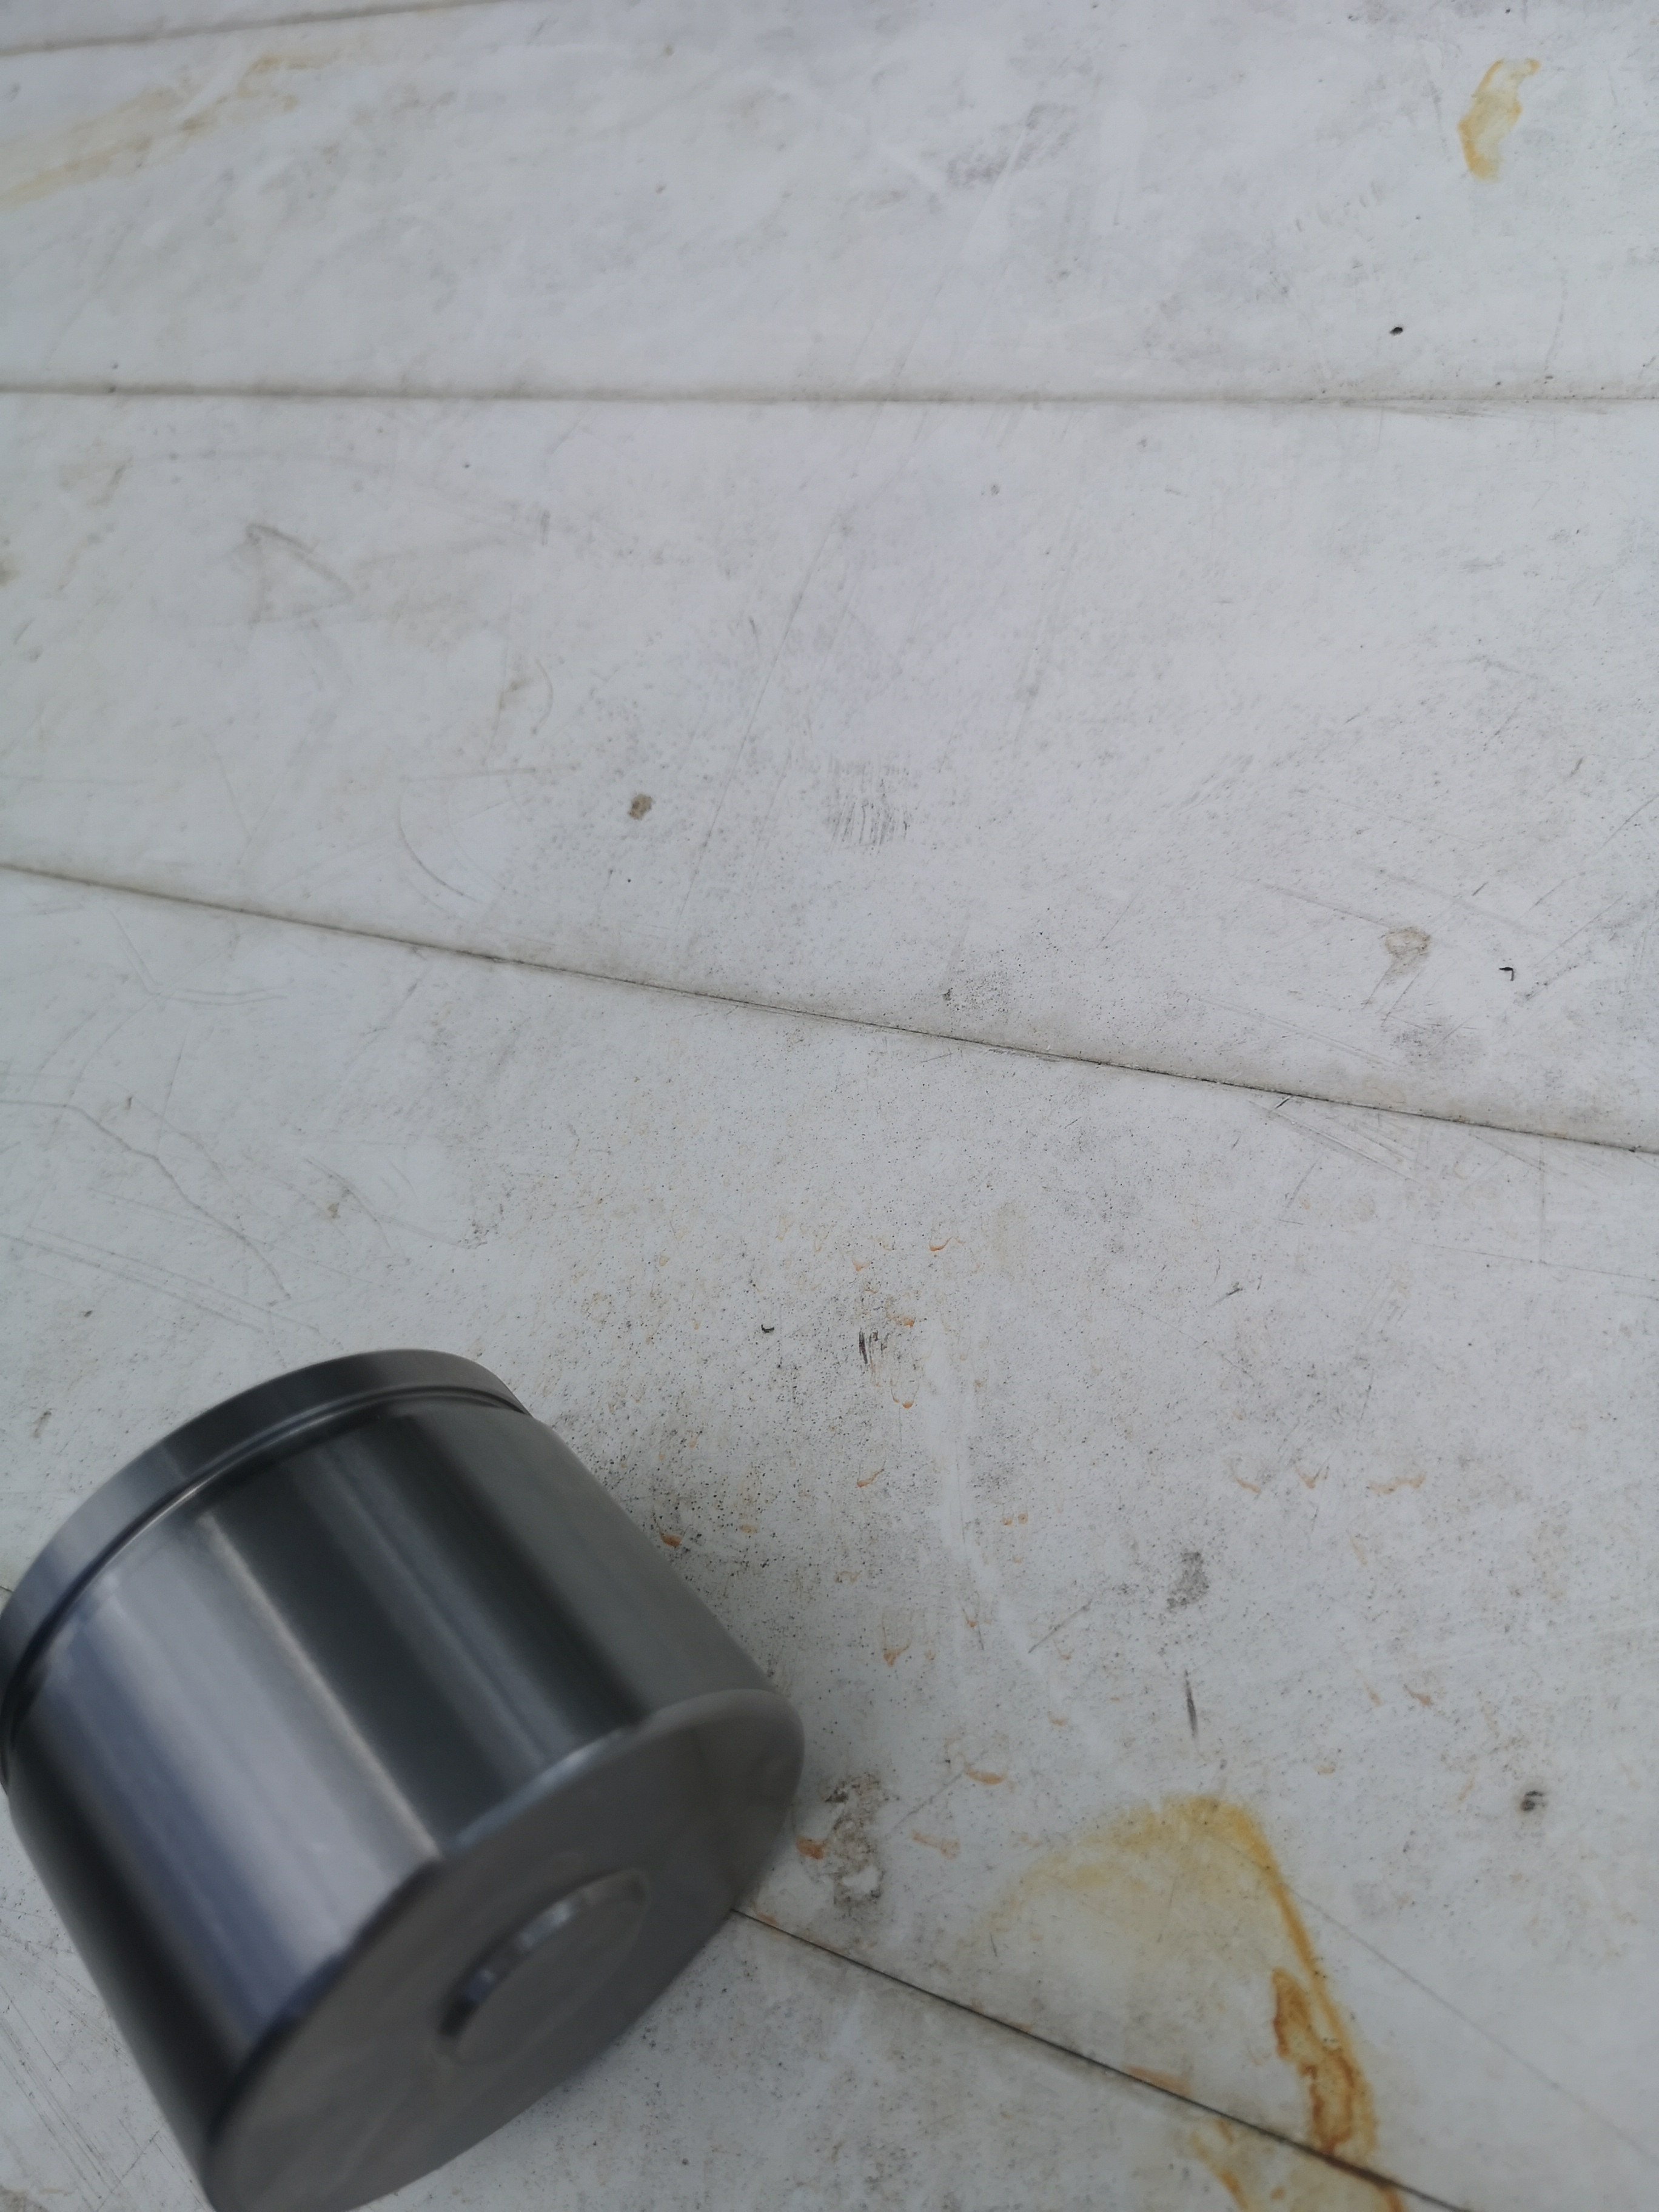ลูกสูบดิสเบรค: (26, 1334, 884, 2193)
